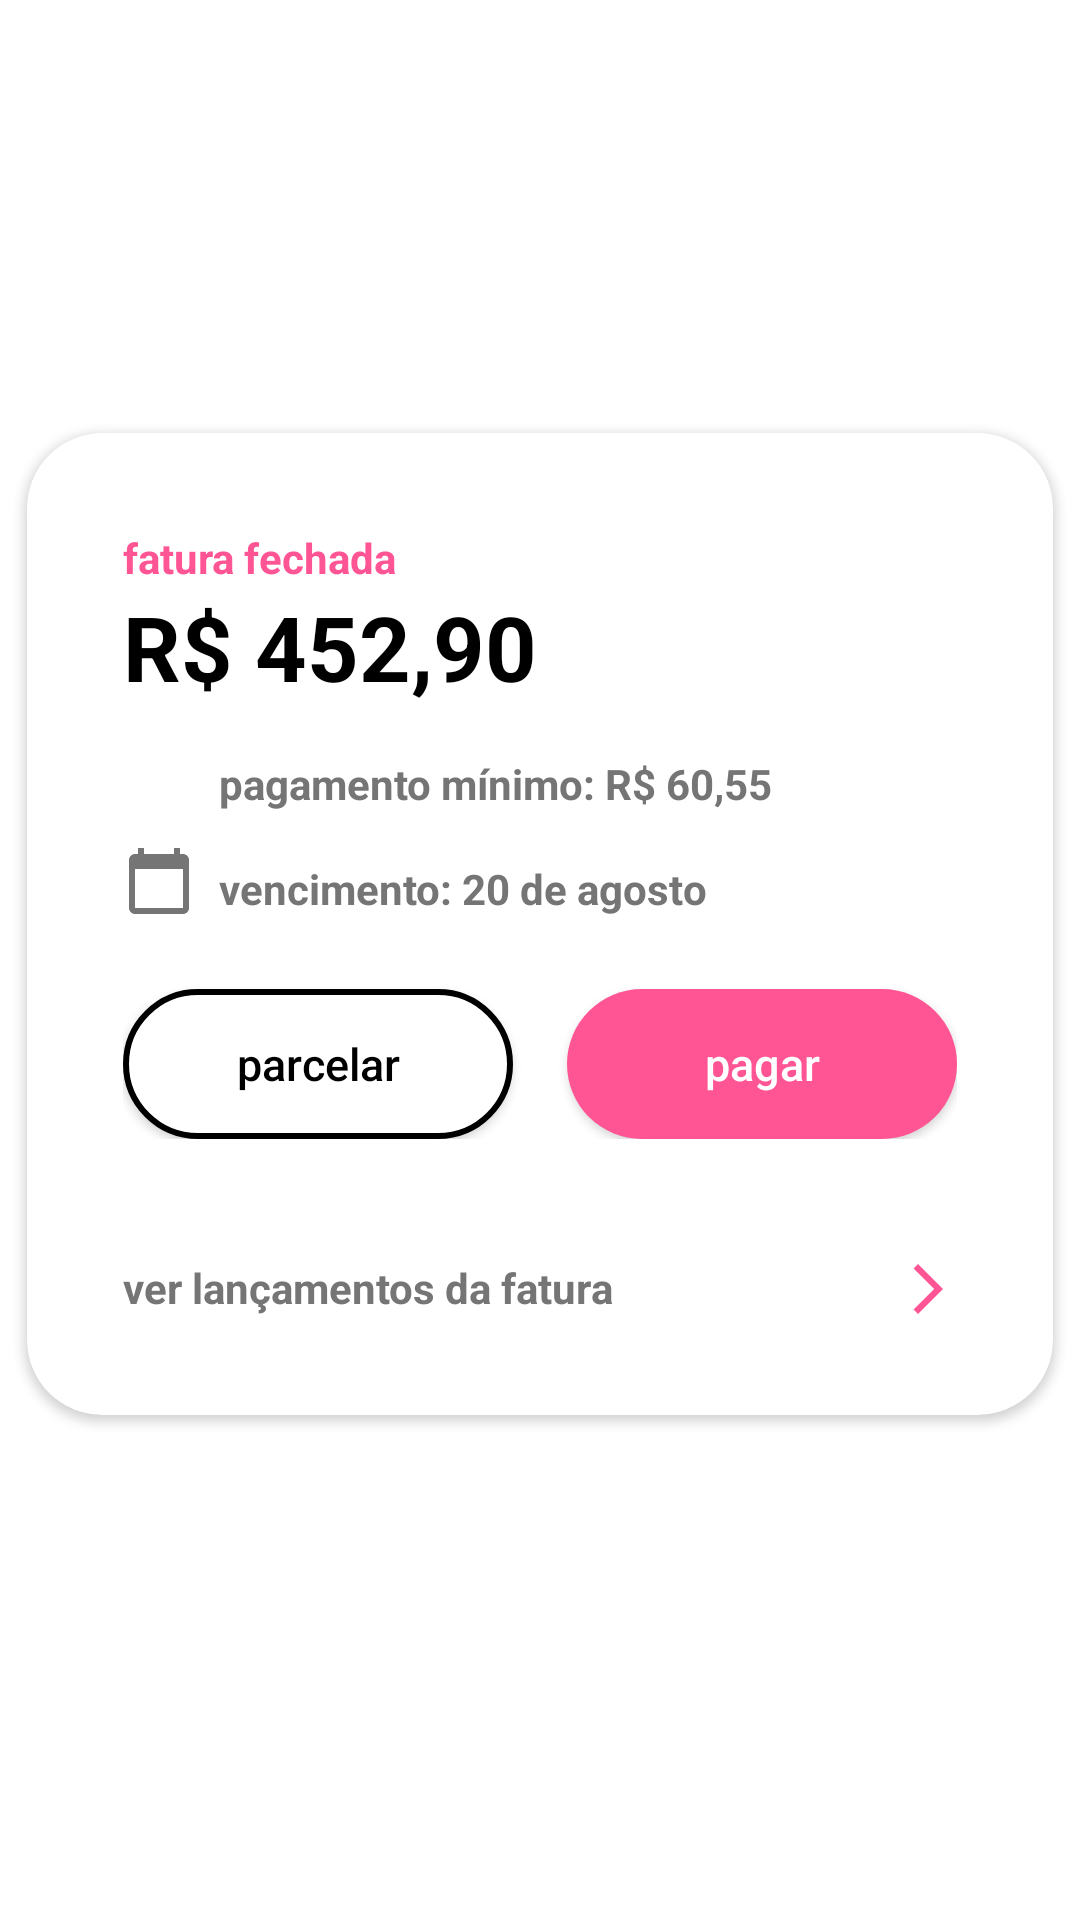

Point at icon controls on the screen. Image size 1080x1920, points as [x,y].
arrow forward: [928,1289]
calendar today: [159,881]
